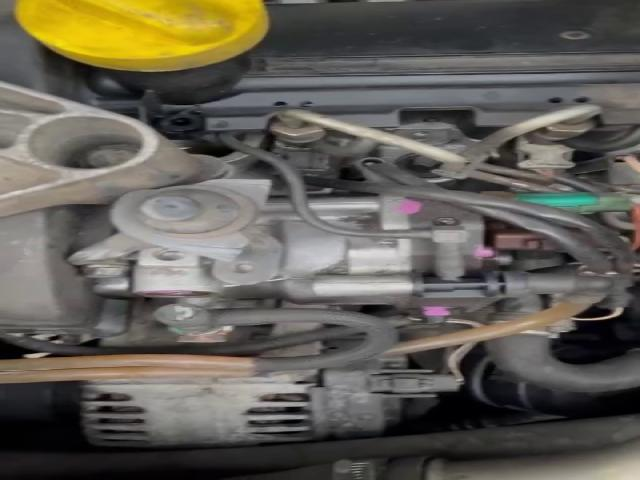alternator: (82, 370, 317, 447)
high_pressure_pump: (95, 196, 497, 322)
